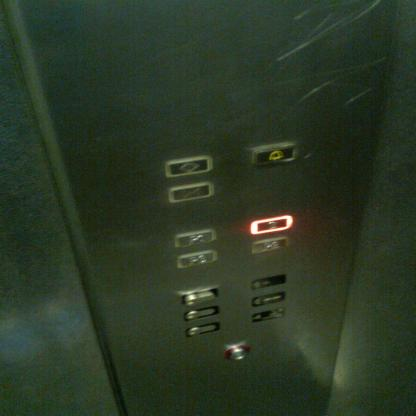2: (250, 215, 292, 233)
alarm: (252, 142, 296, 165)
blur: (173, 228, 216, 249), (177, 250, 217, 268), (252, 236, 287, 253)
close: (167, 182, 213, 202)
keyhole: (180, 287, 220, 305), (183, 304, 219, 322), (184, 321, 220, 338), (224, 345, 250, 361)
open: (163, 155, 213, 178)
